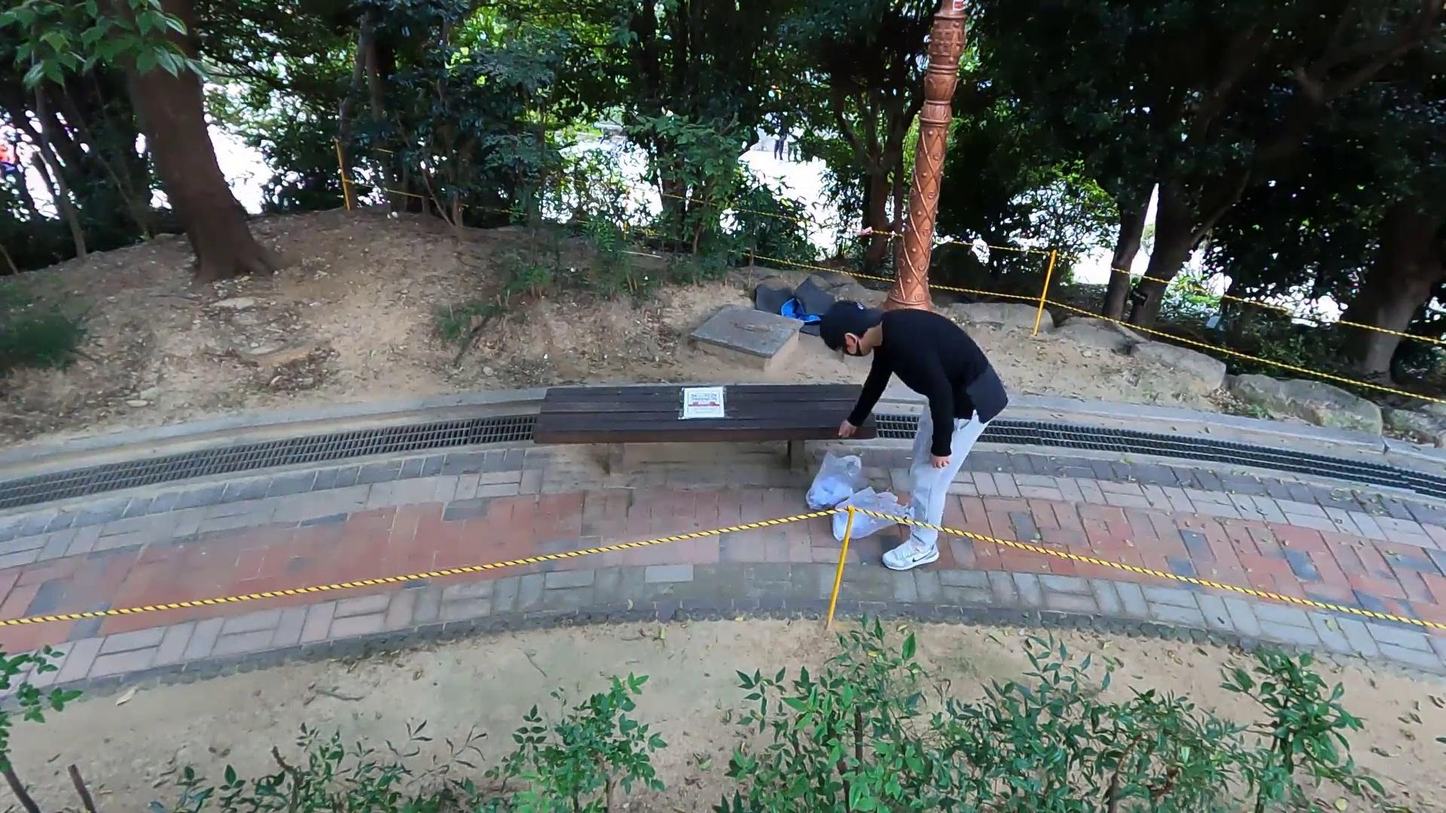person: (817, 290, 1009, 579)
trash: (824, 478, 911, 553), (792, 445, 869, 516)
